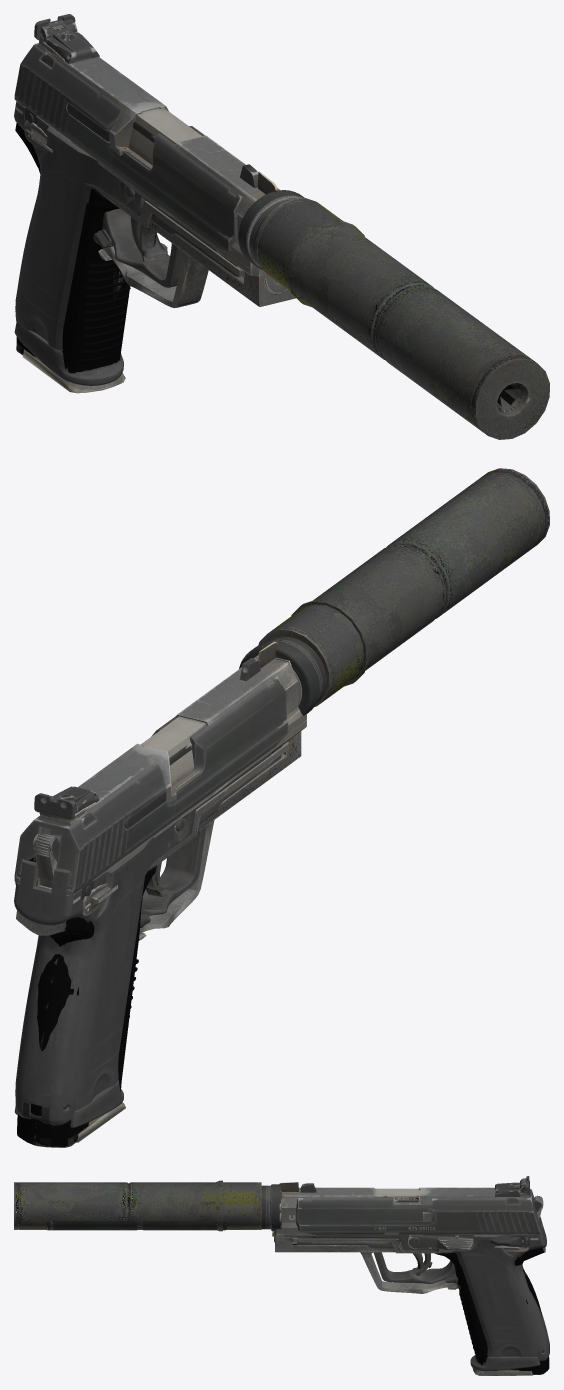
The picture shows the model from 3 angles, top to bottom: view 1: azimuth 30°, elevation 25°; view 2: azimuth 150°, elevation 25°; view 3: azimuth 270°, elevation 25°; orthographic projection. The views are drawn at different scales.
Visible parts, largest first — view 1: weapons\models\usp_silencer\weapon_pist_usp_silencer.vmdl_c., weapons\models\usp_silencer\weapon_pist_usp_silencer.vmdl_c; view 2: weapons\models\usp_silencer\weapon_pist_usp_silencer.vmdl_c, weapons\models\usp_silencer\weapon_pist_usp_silencer.vmdl_c.; view 3: weapons\models\usp_silencer\weapon_pist_usp_silencer.vmdl_c, weapons\models\usp_silencer\weapon_pist_usp_silencer.vmdl_c..
Part boxes in pixels (x1=…): weapons\models\usp_silencer\weapon_pist_usp_silencer.vmdl_c.: x1=15, y1=35, x2=549, y2=439; weapons\models\usp_silencer\weapon_pist_usp_silencer.vmdl_c: x1=14, y1=14, x2=383, y2=385; weapons\models\usp_silencer\weapon_pist_usp_silencer.vmdl_c: x1=14, y1=587, x2=447, y2=1127; weapons\models\usp_silencer\weapon_pist_usp_silencer.vmdl_c.: x1=16, y1=468, x2=549, y2=1147; weapons\models\usp_silencer\weapon_pist_usp_silencer.vmdl_c: x1=46, y1=1176, x2=549, y2=1371; weapons\models\usp_silencer\weapon_pist_usp_silencer.vmdl_c.: x1=14, y1=1180, x2=549, y2=1375.
Size of the model in its own units: 0.0474 by 0.1756 by 0.4533.
Materials: 2 (2 with a texture image).
